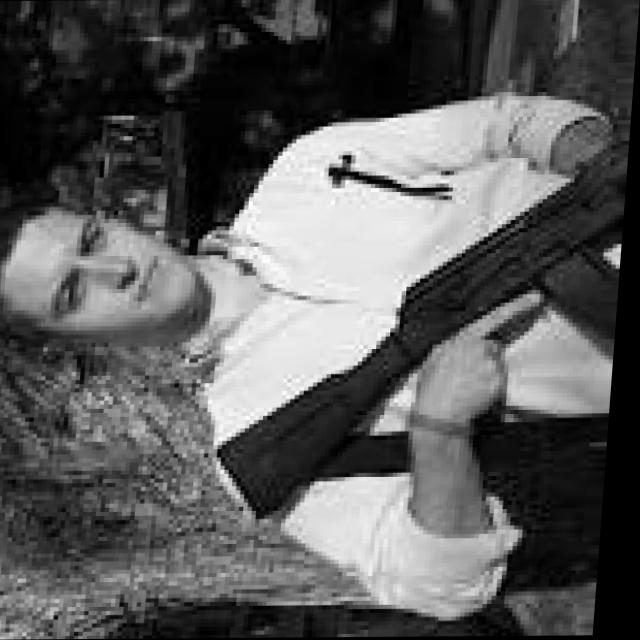rifle: (215, 137, 631, 517)
